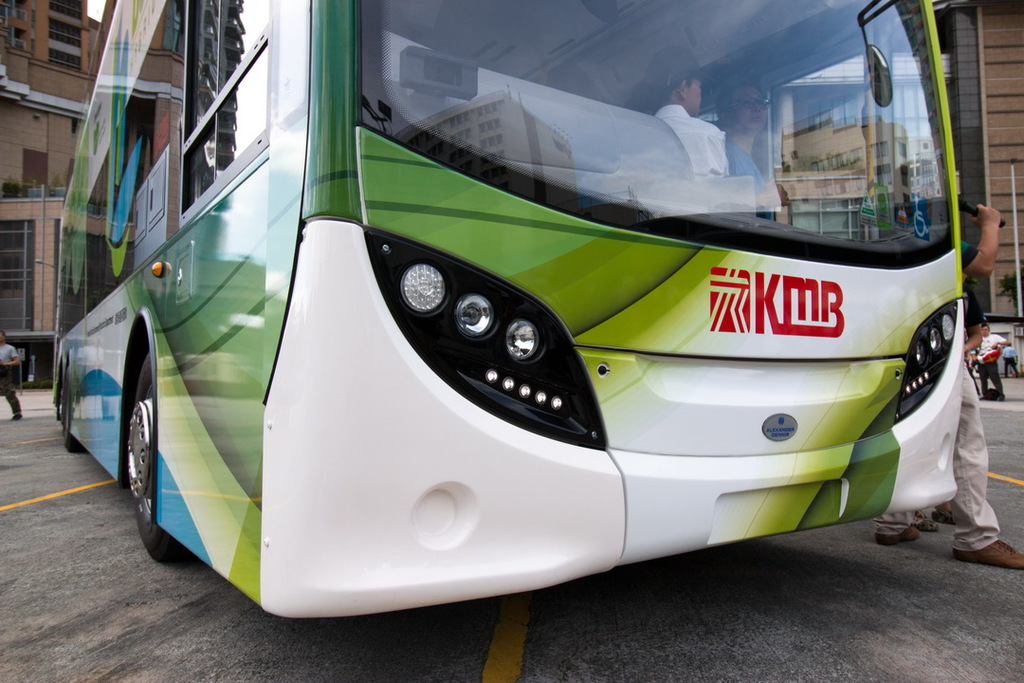Bus: (51, 0, 974, 615)
